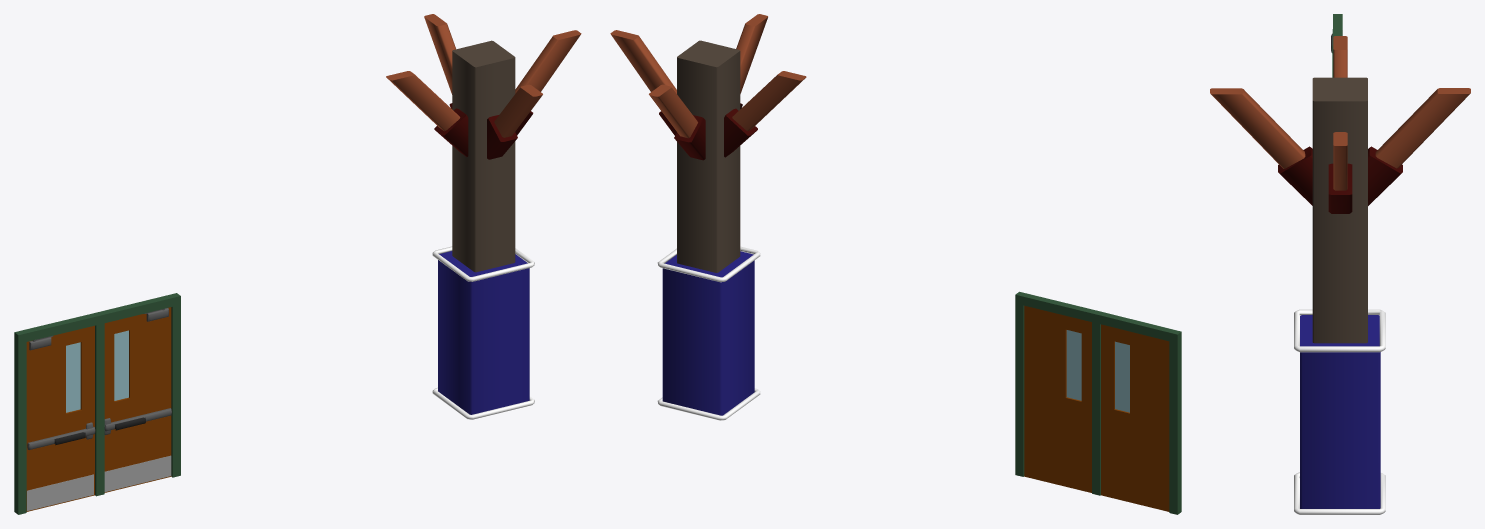
Rendered from Pillar.FBX.
The picture shows the model from 3 angles, left to right: view 1: azimuth 30°, elevation 25°; view 2: azimuth 150°, elevation 25°; view 3: azimuth 270°, elevation 25°; orthographic projection. The views are drawn at different scales.
Visible parts, largest first — view 1: RoomPillar, DoorFrame; view 2: RoomPillar, DoorFrame; view 3: RoomPillar, DoorFrame.
Part boxes in pixels (x1,y1,x2,y2): RoomPillar: [386, 14, 581, 419]; DoorFrame: [14, 293, 180, 514]; RoomPillar: [610, 14, 806, 420]; DoorFrame: [1015, 291, 1181, 514]; RoomPillar: [1210, 36, 1470, 514]; DoorFrame: [1331, 14, 1342, 77].
Bounding box in the file's own units: 1365 × 796 × 463.
